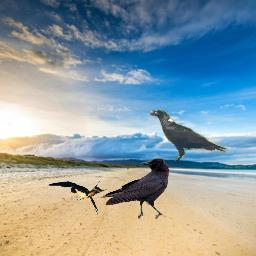Crow: (99, 158, 170, 219), (148, 109, 228, 163)
Swallow: (47, 178, 118, 215)
